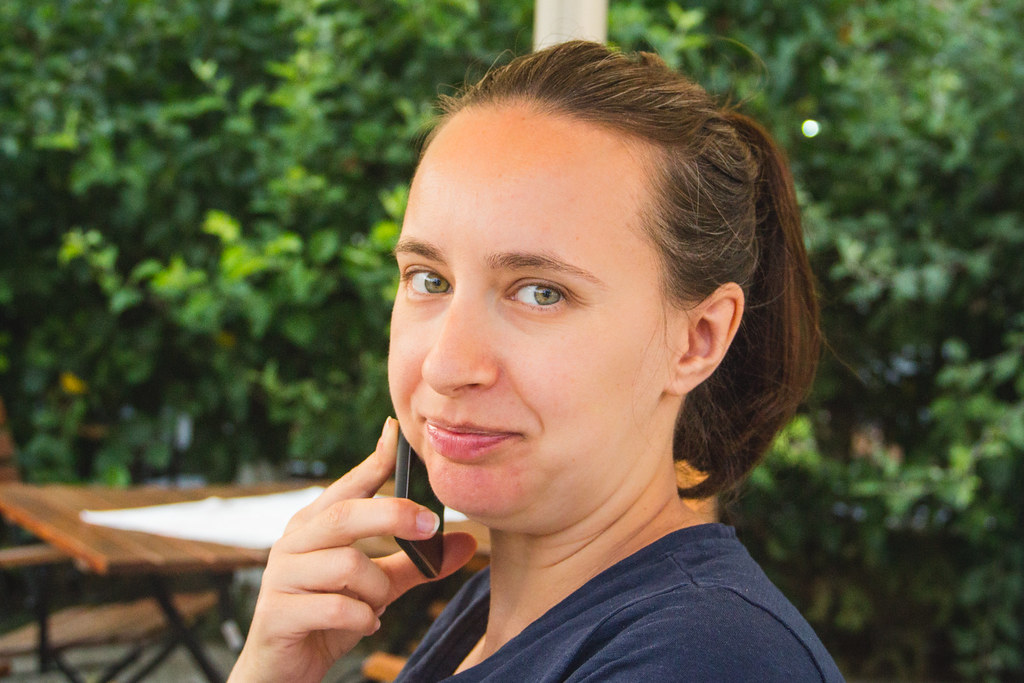phone: (361, 383, 450, 609)
talk: (237, 205, 687, 652)
